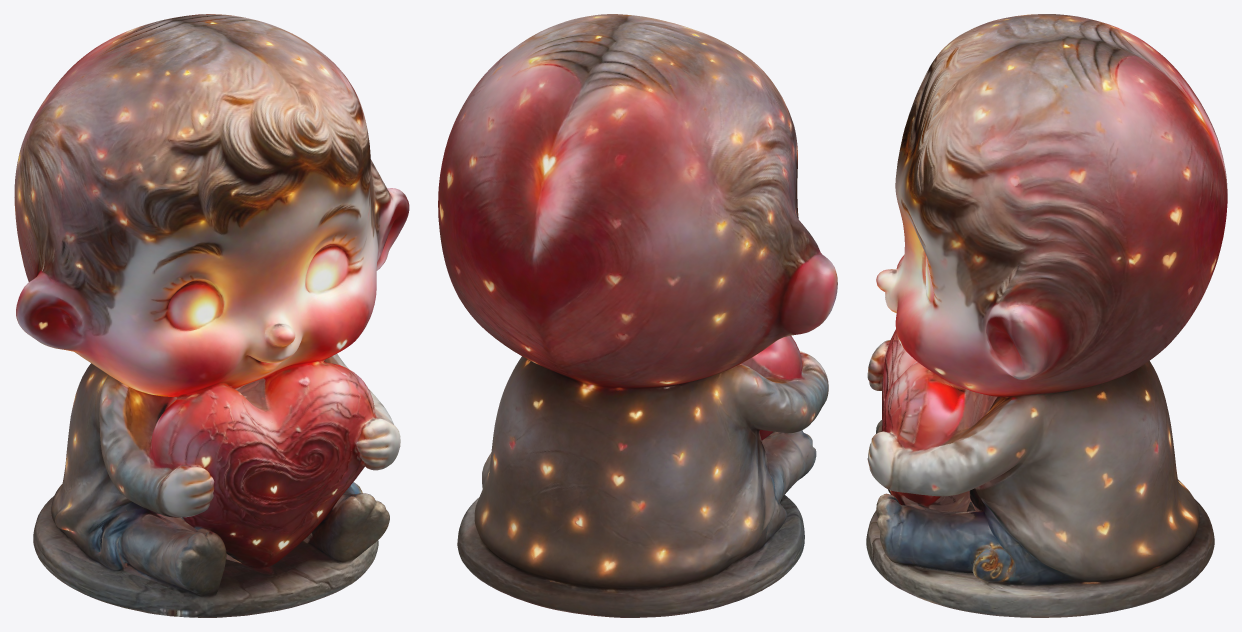
File: valentines_day_gift_-_boy_with_heart.glb
3 views of the same model, side by side, from view 1: azimuth 30°, elevation 25°; view 2: azimuth 150°, elevation 25°; view 3: azimuth 270°, elevation 25° (orthographic).
Parts seen in each view (by area): view 1: Mesh_0_Material_0_0; view 2: Mesh_0_Material_0_0; view 3: Mesh_0_Material_0_0.
Part boxes in pixels (x1,y1,x2,y2): Mesh_0_Material_0_0: (14, 14, 409, 617); Mesh_0_Material_0_0: (438, 14, 837, 617); Mesh_0_Material_0_0: (866, 14, 1227, 617).
Size of the model in its own units: 1.59 by 2 by 1.28.
1 material, 1 textured.
